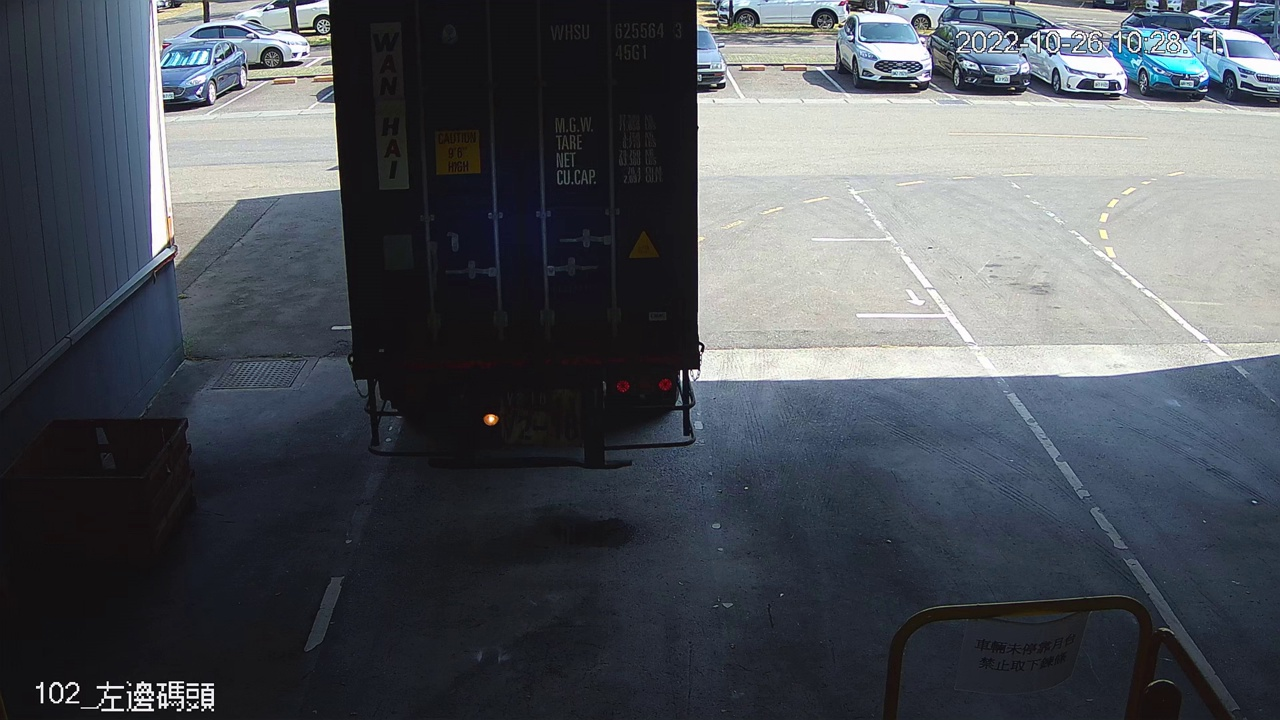container: (545, 13, 688, 67)
